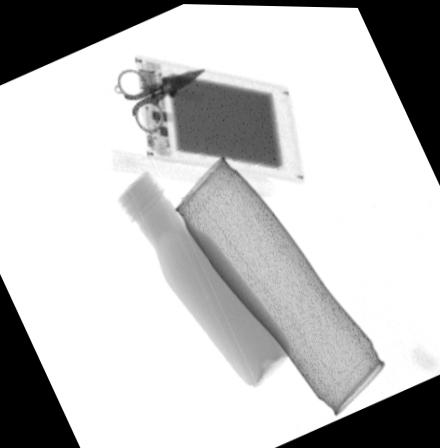Powerbank: (133, 51, 305, 180)
Scissors: (117, 64, 208, 137)
